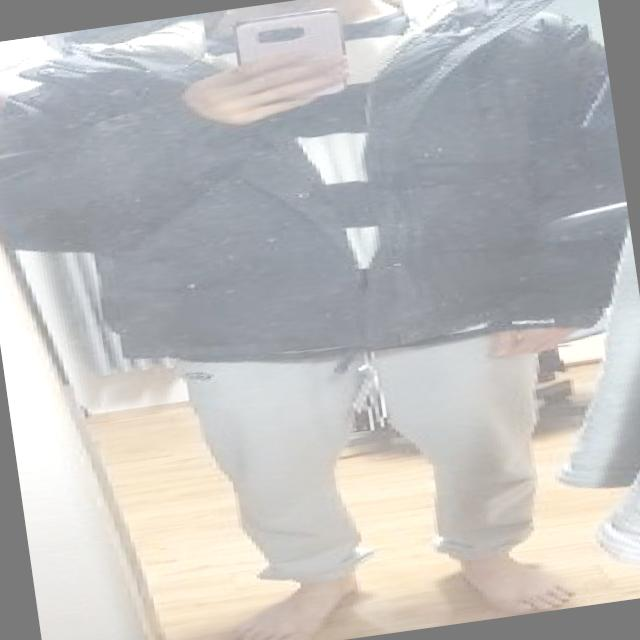padding: (0, 0, 640, 402)
trainingpants: (171, 304, 563, 598)
